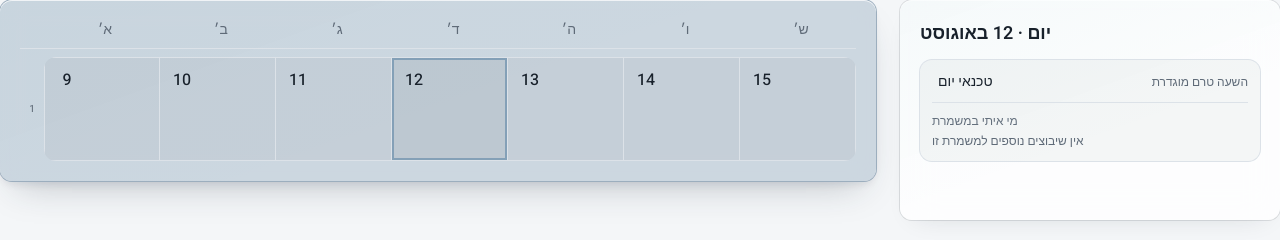
ScheduleCalendar › clicking a different day updates the selected-day panel
Expected: the text "טכנאי יום" is shown, [932, 72, 993, 92]
Expected: the text "טכנאי לילה" is not shown
Click the button named "13 באוגוסט" at [566, 109], box [508, 57, 624, 161]
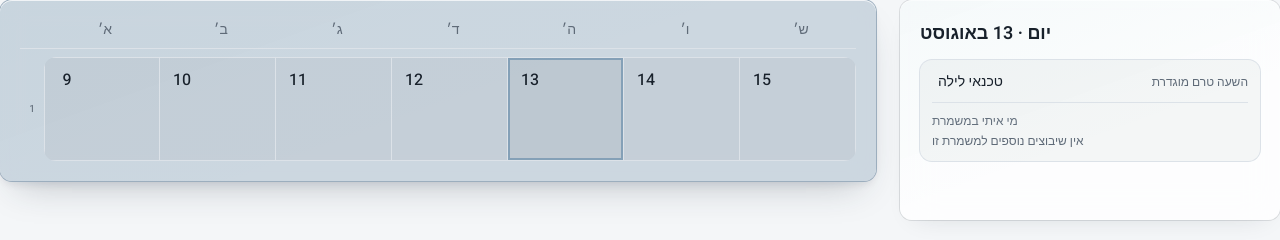
Now the text "טכנאי לילה" is shown, box [932, 72, 1003, 92]
Now the text "טכנאי יום" is gone
